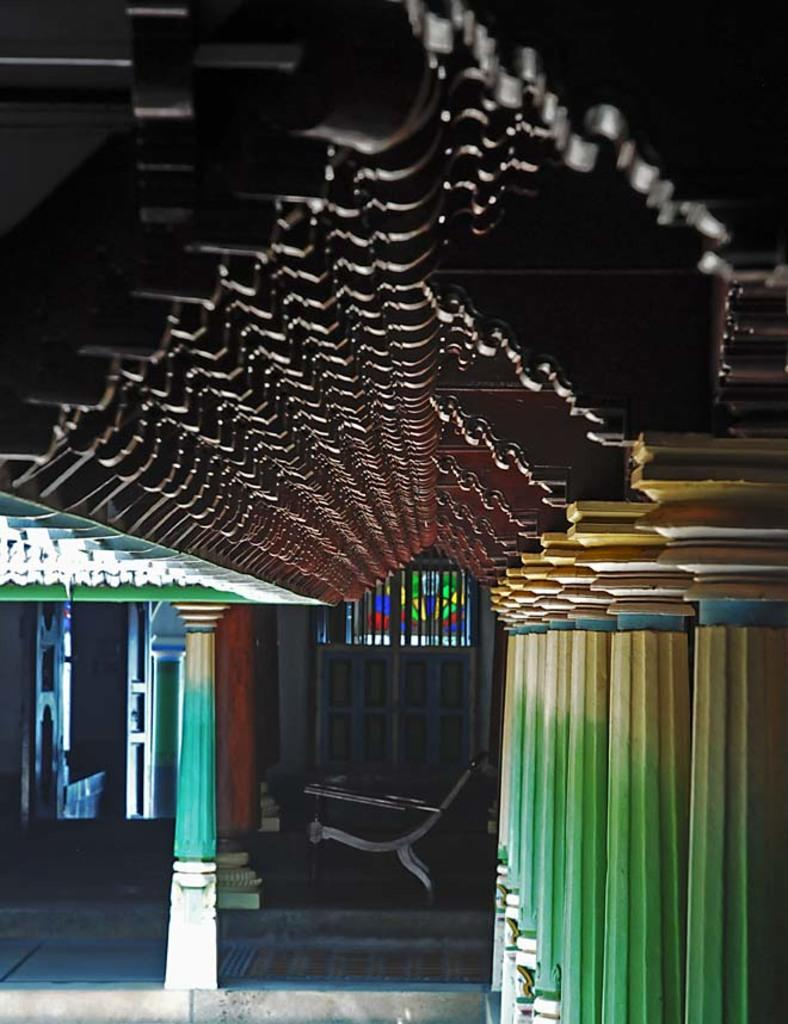Chair: (263, 758, 486, 900)
